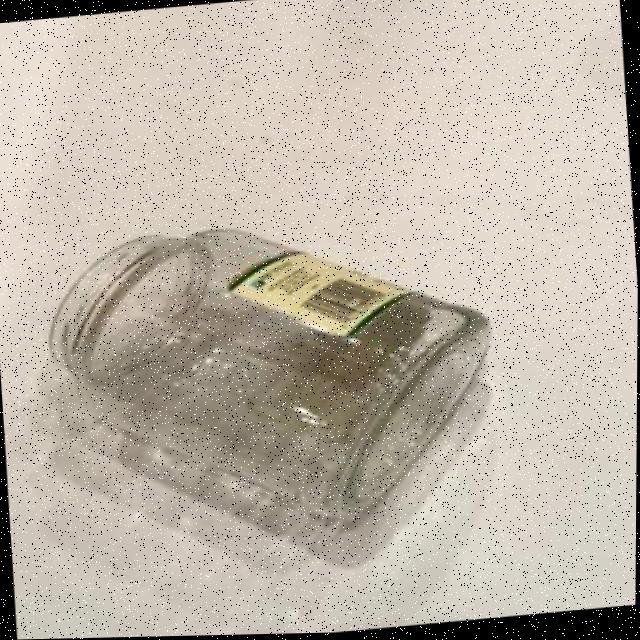glass: (37, 193, 520, 555)
